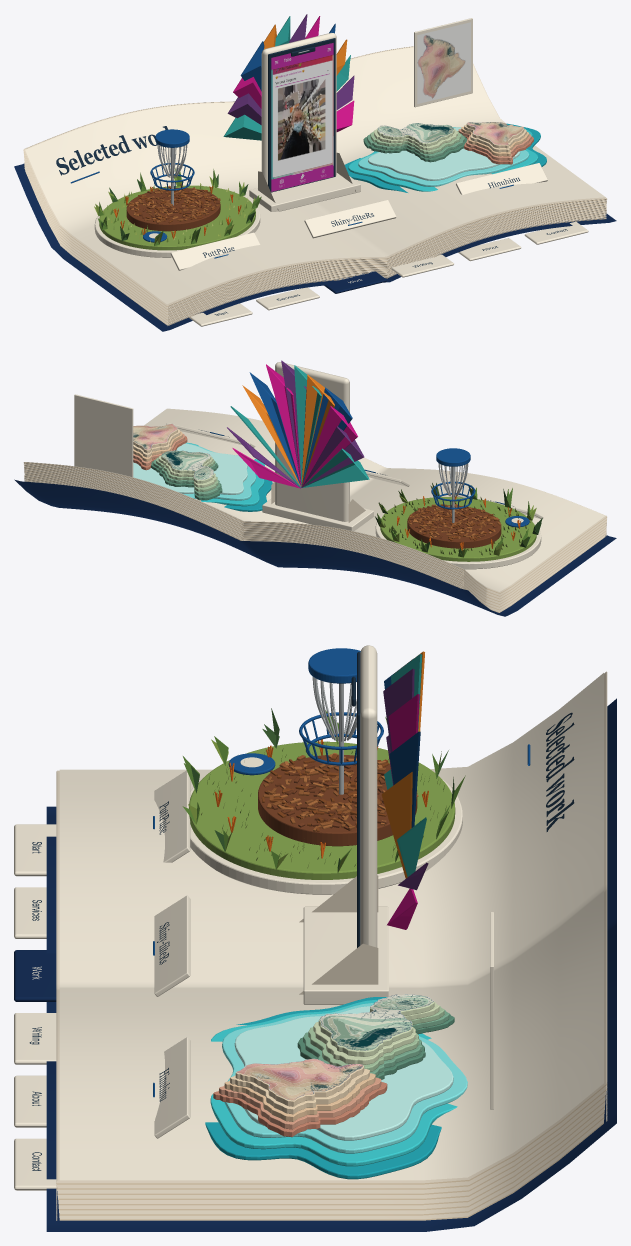
Rendered from work-geometry.glb.
The picture shows the model from 3 angles, top to bottom: view 1: azimuth 30°, elevation 25°; view 2: azimuth 150°, elevation 25°; view 3: azimuth 270°, elevation 25°; orthographic projection. The views are drawn at different scales.
Visible parts, largest first — view 1: Reading spread, Original application screen, Putting green layered grass, Cobalt lower cover, Altitude chart image, Layered ocean contour.003, Raised mulch bed, Phone cradle, Paper leaf 29, Project nameplate Shiny-filteRs, Shiny-filteRs phone shell, Project nameplate Hinuhinu (+53 smaller); view 2: Reading spread, Cobalt lower cover, Standing Hinuhinu chart, Putting green layered grass, Shiny-filteRs phone shell, Raised mulch bed, Layered ocean contour.003, Phone cradle, Folded filter fan.005, Folded filter fan.007, Folded filter fan.010, Folded filter fan.008 (+71 smaller); view 3: Reading spread, Cobalt lower cover, Putting green layered grass, Layered ocean contour.003, Phone cradle, Shiny-filteRs phone shell, Raised mulch bed, Layered ocean contour.002, Paper leaf 29, Layered ocean contour.001, Layered ocean contour, Putting green cream paper base (+62 smaller).
Part boxes in pixels (x1,y1,x2,y2): Reading spread: [25, 47, 605, 304]; Original application screen: [271, 43, 333, 191]; Putting green layered grass: [99, 185, 255, 250]; Cobalt lower cover: [14, 163, 616, 331]; Altitude chart image: [417, 22, 470, 103]; Layered ocean contour.003: [368, 128, 520, 180]; Raised mulch bed: [126, 188, 220, 231]; Phone cradle: [249, 173, 360, 211]; Paper leaf 29: [23, 46, 606, 305]; Project nameplate Shiny-filteRs: [304, 200, 396, 238]; Shiny-filteRs phone shell: [261, 32, 336, 184]; Project nameplate Hinuhinu: [456, 163, 547, 194]; Reading spread: [28, 408, 605, 591]; Cobalt lower cover: [14, 479, 616, 616]; Standing Hinuhinu chart: [74, 394, 133, 477]; Putting green layered grass: [380, 497, 536, 561]; Shiny-filteRs phone shell: [275, 362, 349, 521]; Raised mulch bed: [407, 505, 501, 548]; Layered ocean contour.003: [133, 443, 247, 494]; Phone cradle: [262, 499, 373, 531]; Folded filter fan.005: [266, 364, 301, 487]; Folded filter fan.007: [294, 365, 321, 486]; Folded filter fan.010: [302, 406, 357, 486]; Folded filter fan.008: [301, 375, 334, 485]; Reading spread: [59, 673, 603, 1180]; Cobalt lower cover: [46, 698, 616, 1231]; Putting green layered grass: [189, 741, 455, 879]; Layered ocean contour.003: [234, 1006, 453, 1140]; Phone cradle: [303, 906, 388, 1004]; Shiny-filteRs phone shell: [360, 645, 377, 947]; Raised mulch bed: [258, 754, 417, 846]; Layered ocean contour.002: [222, 1003, 467, 1153]; Paper leaf 29: [57, 671, 606, 1183]; Layered ocean contour.001: [210, 999, 457, 1166]; Layered ocean contour: [205, 997, 441, 1179]; Putting green cream paper base: [190, 778, 462, 894].
Bounding box in the file's own units: 10.39 × 4.26 × 6.2.
39 materials, 4 textured.
